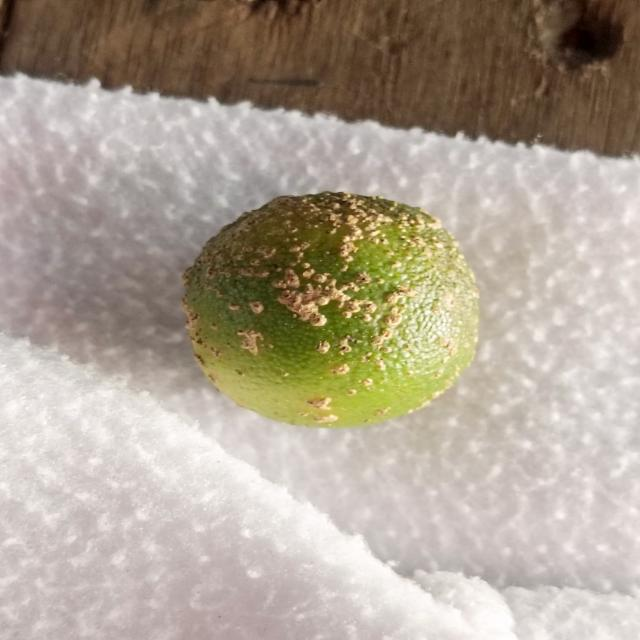scab: (177, 192, 483, 429)
